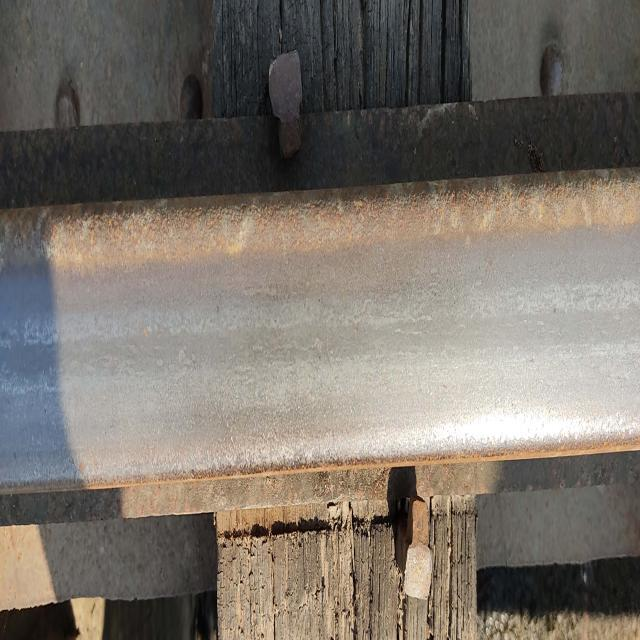Good Fasteners: (268, 50, 302, 158), (404, 498, 432, 599)
